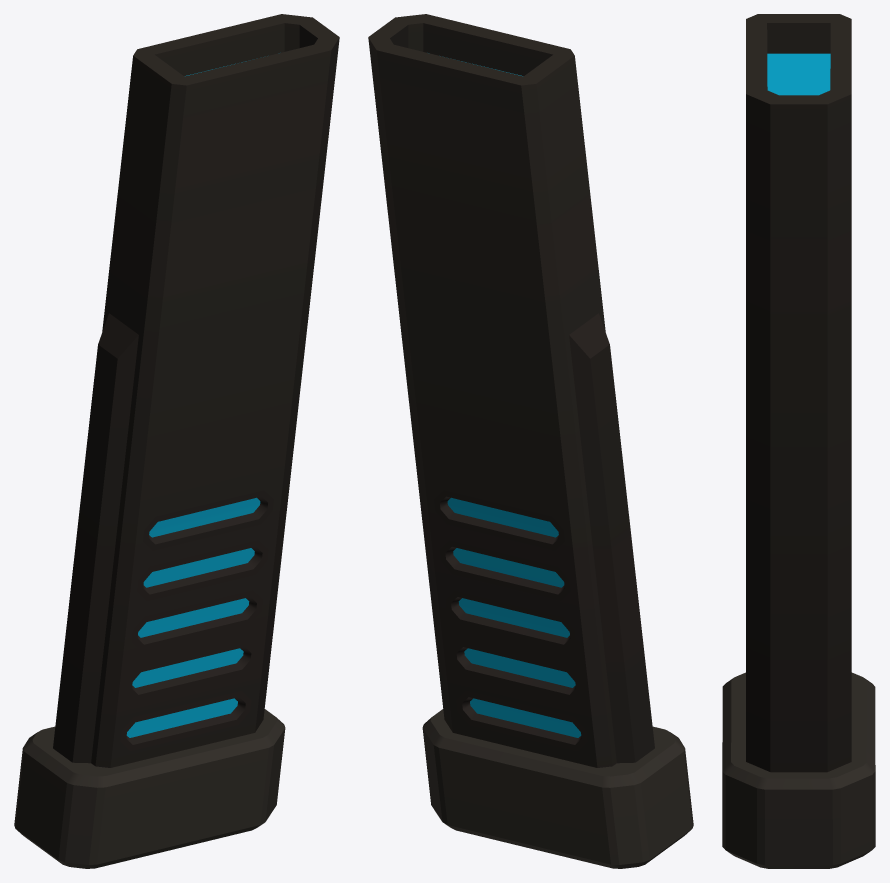
Rendered from SMG7_MagazineExtended.fbx.
The picture shows the model from 3 angles, left to right: view 1: azimuth 30°, elevation 25°; view 2: azimuth 150°, elevation 25°; view 3: azimuth 270°, elevation 25°; orthographic projection. The views are drawn at different scales.
Visible parts, largest first — view 1: SMG7_MagazineExtended; view 2: SMG7_MagazineExtended; view 3: SMG7_MagazineExtended.
Part boxes in pixels (x1=…): SMG7_MagazineExtended: x1=14, y1=14, x2=339, y2=868; SMG7_MagazineExtended: x1=368, y1=14, x2=693, y2=868; SMG7_MagazineExtended: x1=722, y1=14, x2=875, y2=868.
Bounding box in the file's own units: 6.32 × 15.74 × 2.72.
